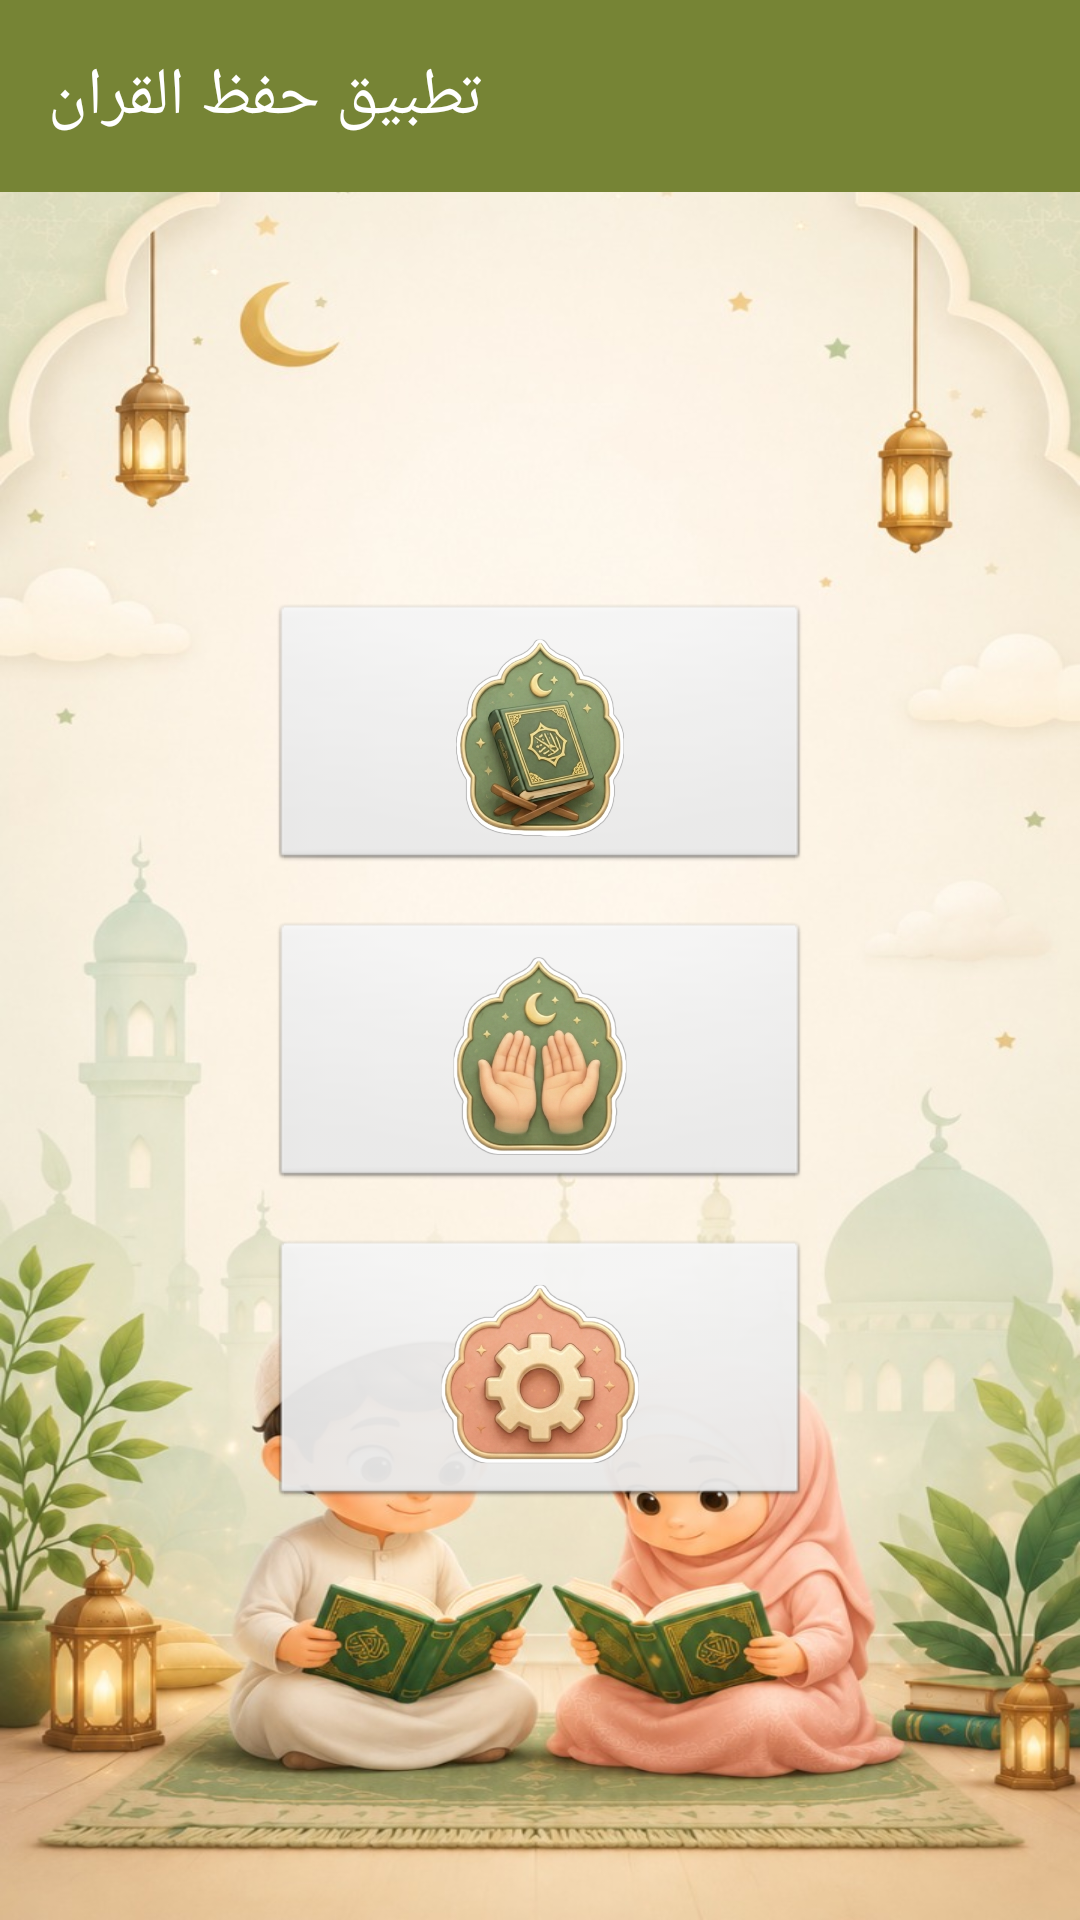

Screen size 1080x1920. Icon name, then its box in pixels as (x1, y1, x2, y2):
الأذكار: (453, 957, 627, 1155)
